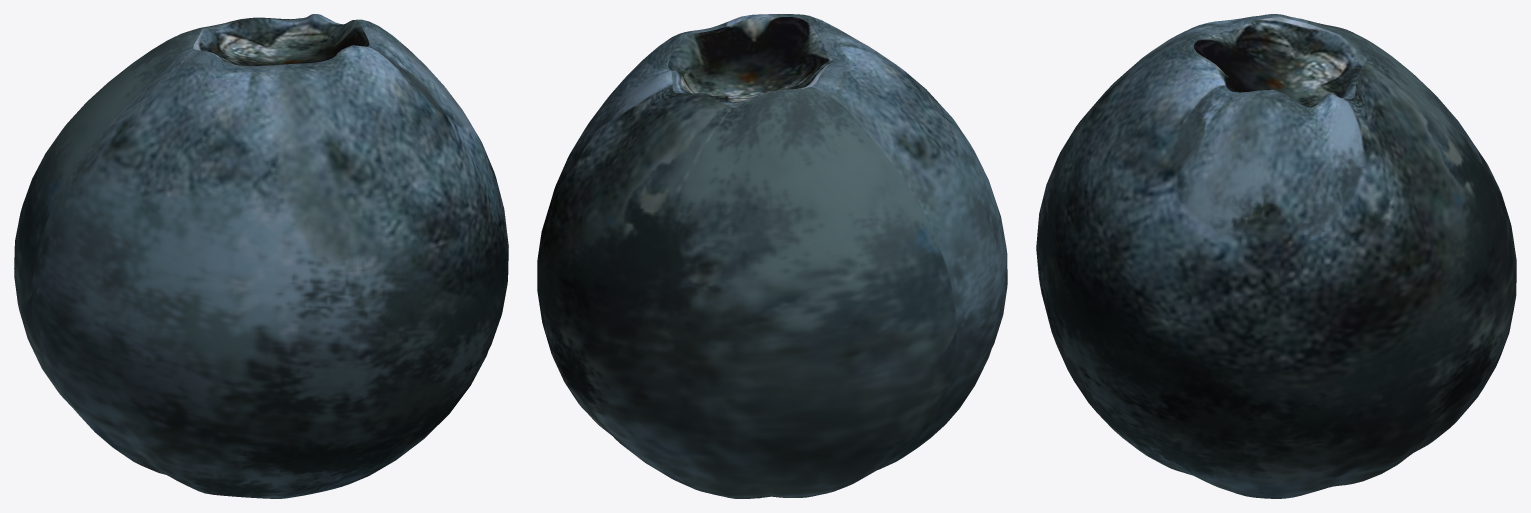
The model's file is BlueBerry.glb.
3 renders of one model, left to right at view 1: azimuth 30°, elevation 25°; view 2: azimuth 150°, elevation 25°; view 3: azimuth 270°, elevation 25°, orthographic. The views are drawn at different scales.
Visible parts, largest first — view 1: 10167_Blueberry_v01_it2.001; view 2: 10167_Blueberry_v01_it2.001; view 3: 10167_Blueberry_v01_it2.001.
Boxes of the visible parts, box(x1,y1,x2,y2) form: 10167_Blueberry_v01_it2.001: box(14, 14, 508, 498); 10167_Blueberry_v01_it2.001: box(537, 14, 1007, 498); 10167_Blueberry_v01_it2.001: box(1036, 14, 1516, 498).
Size of the model in its own units: 0.00409 by 0.00398 by 0.00403.
2 materials, 2 textured.
